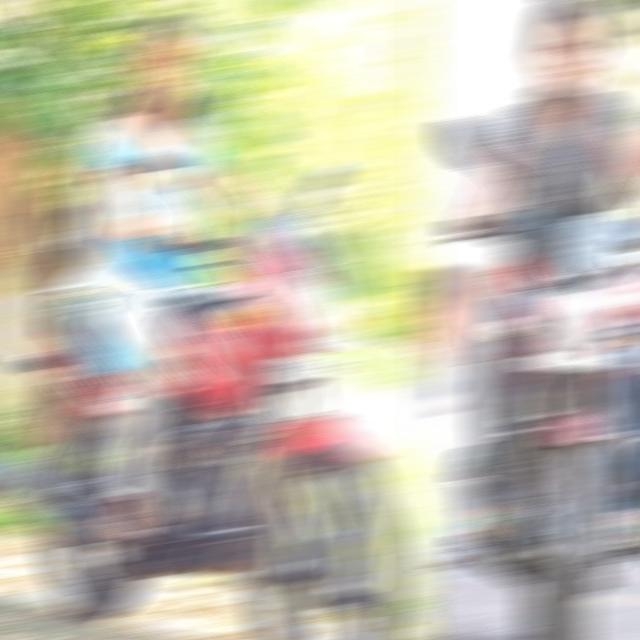Without Helmet: (117, 14, 205, 110), (526, 1, 608, 102)
